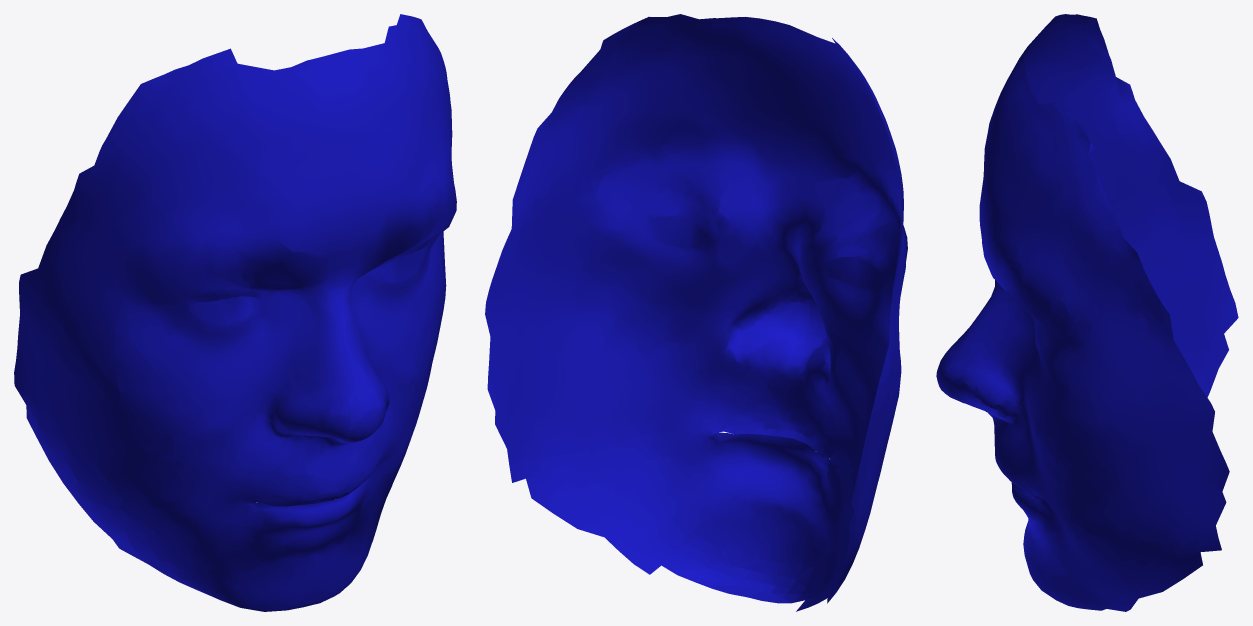
File: deformed_mesh.obj
The picture shows the model from 3 angles, left to right: view 1: azimuth 30°, elevation 25°; view 2: azimuth 150°, elevation 25°; view 3: azimuth 270°, elevation 25°; orthographic projection. The views are drawn at different scales.
Bounding box in the file's own units: 148 × 204 × 102.
